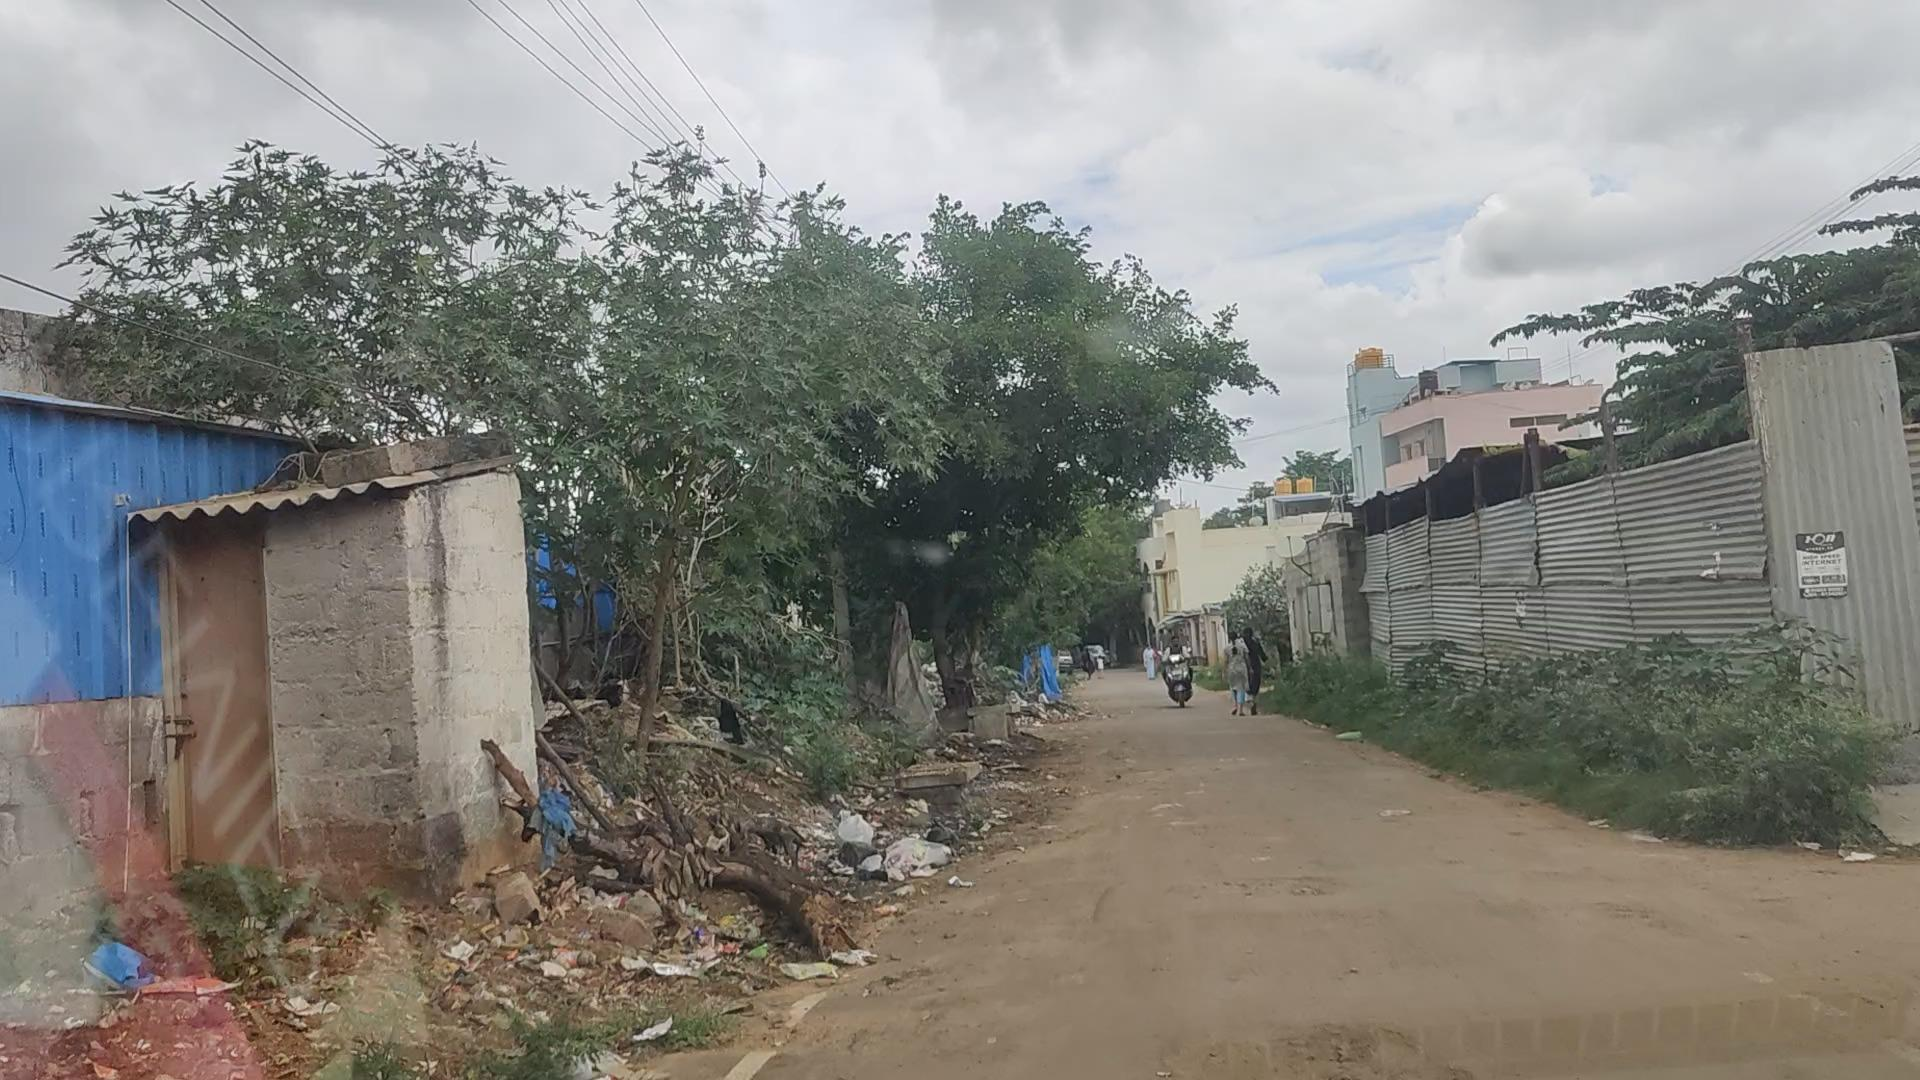RoadDamages: (1158, 1027, 1441, 1080), (1184, 872, 1358, 915)
